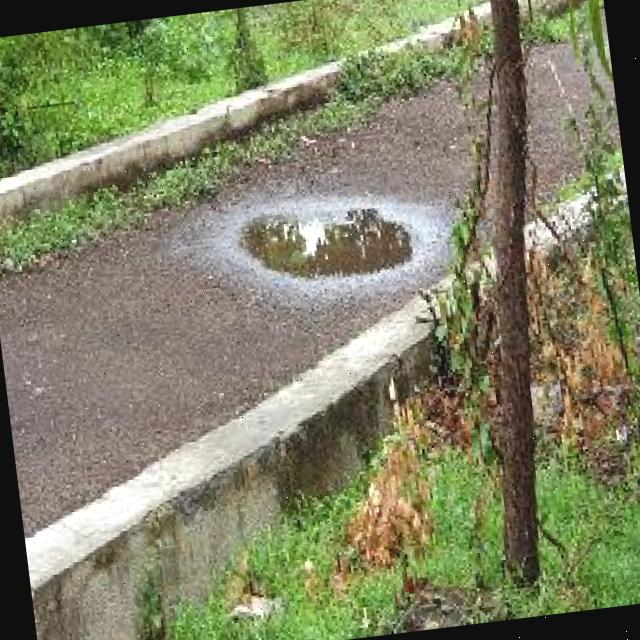stagnation: (232, 167, 424, 301)
